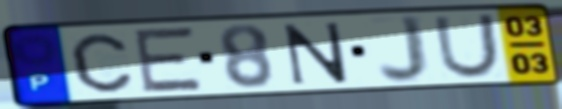8: (217, 22, 277, 91)
C: (67, 31, 135, 94)
E: (132, 25, 206, 95)
J: (376, 14, 431, 86)
N: (281, 20, 351, 87)
U: (431, 11, 502, 80)
